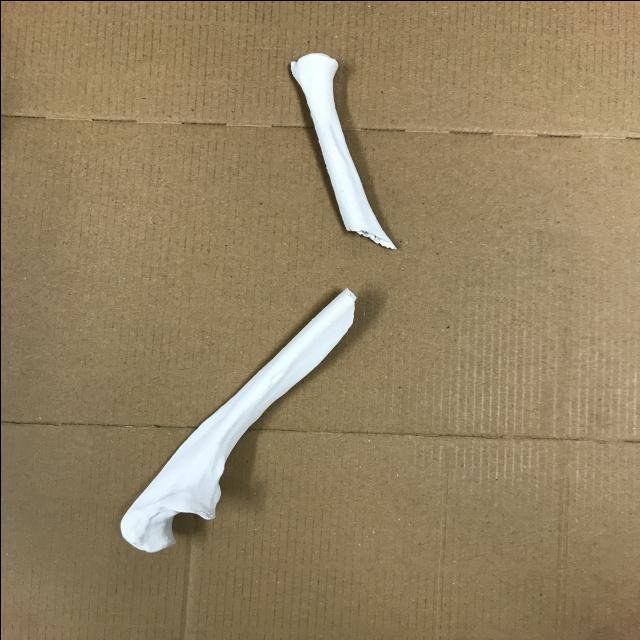bone: (115, 284, 372, 554), (287, 49, 408, 254)
